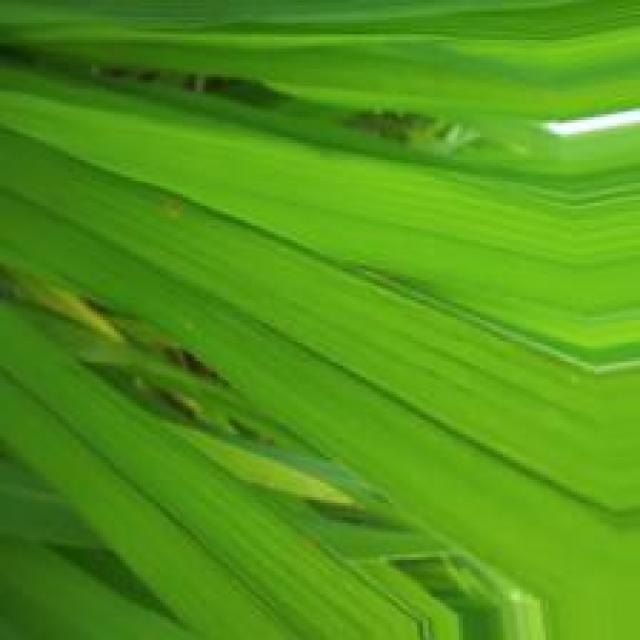HealthyLeaf: (0, 66, 640, 640)
